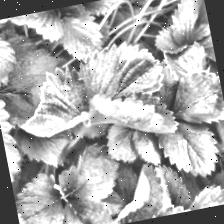Powdery Mildew Leaf: (88, 80, 180, 146), (83, 159, 171, 224)
